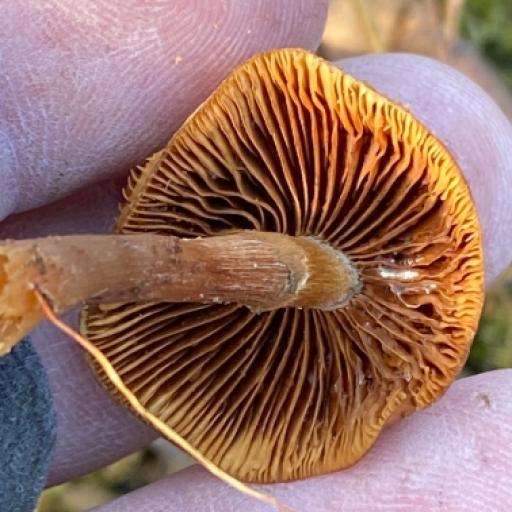mushroom: (24, 36, 496, 495)
